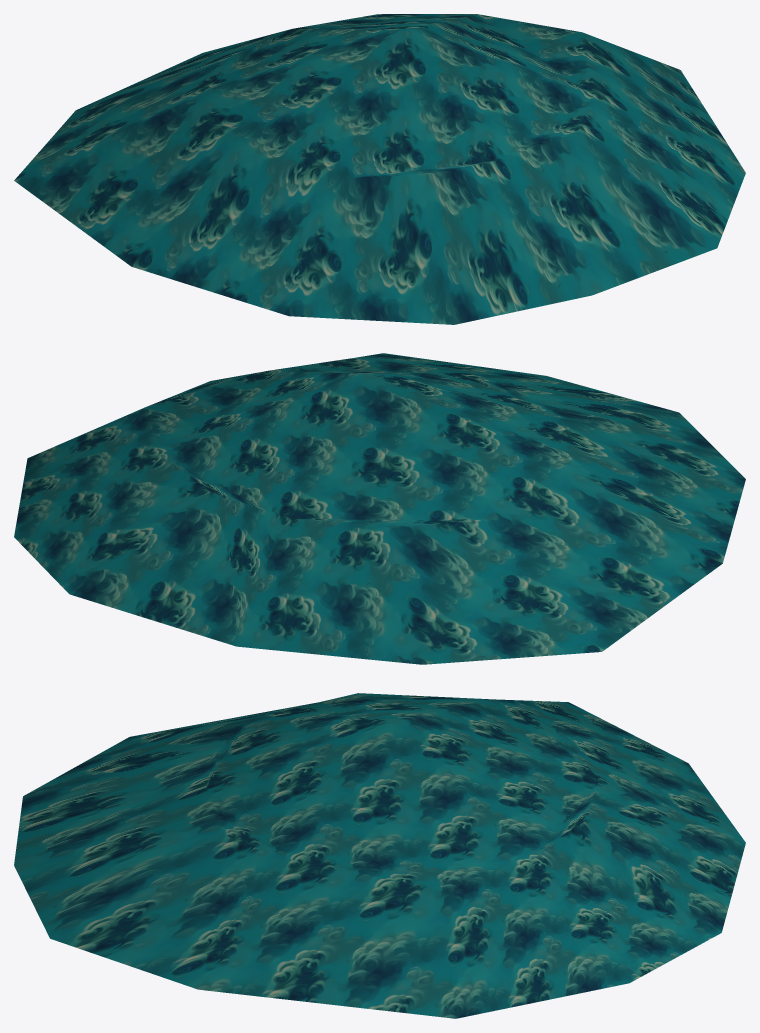
The model's file is testmap.dae.
3 views of the same model, one above another, from view 1: azimuth 30°, elevation 25°; view 2: azimuth 150°, elevation 25°; view 3: azimuth 270°, elevation 25° (orthographic). The views are drawn at different scales.
Parts seen in each view (by area): view 1: Icosphere; view 2: Icosphere; view 3: Icosphere.
Boxes of the visible parts, x1,y1,x2,y2 form: Icosphere: (14,14,745,324); Icosphere: (14,353,745,664); Icosphere: (14,693,745,1018).
Bounding box in the file's own units: 213 × 208 × 56.41.
